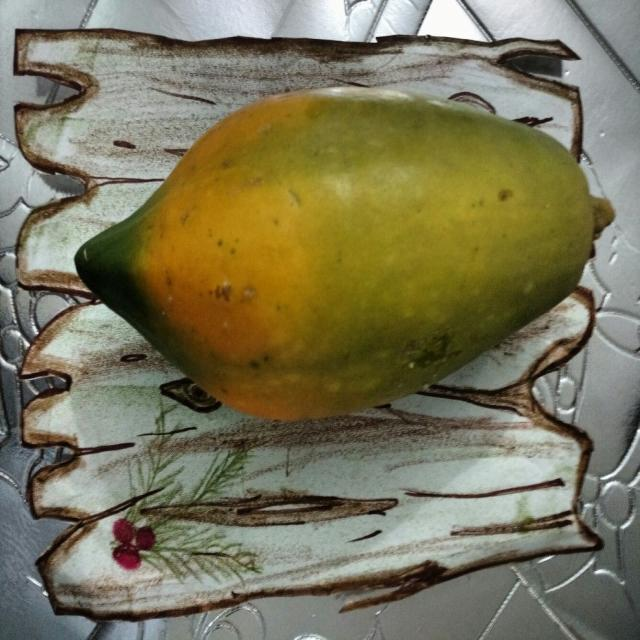Pepaya rippen: (80, 84, 610, 415)
